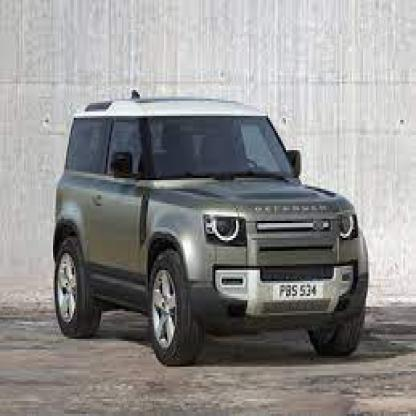Car: (55, 90, 368, 368)
